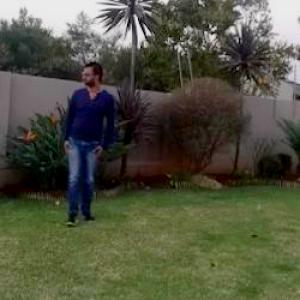follow: (60, 56, 109, 228)
